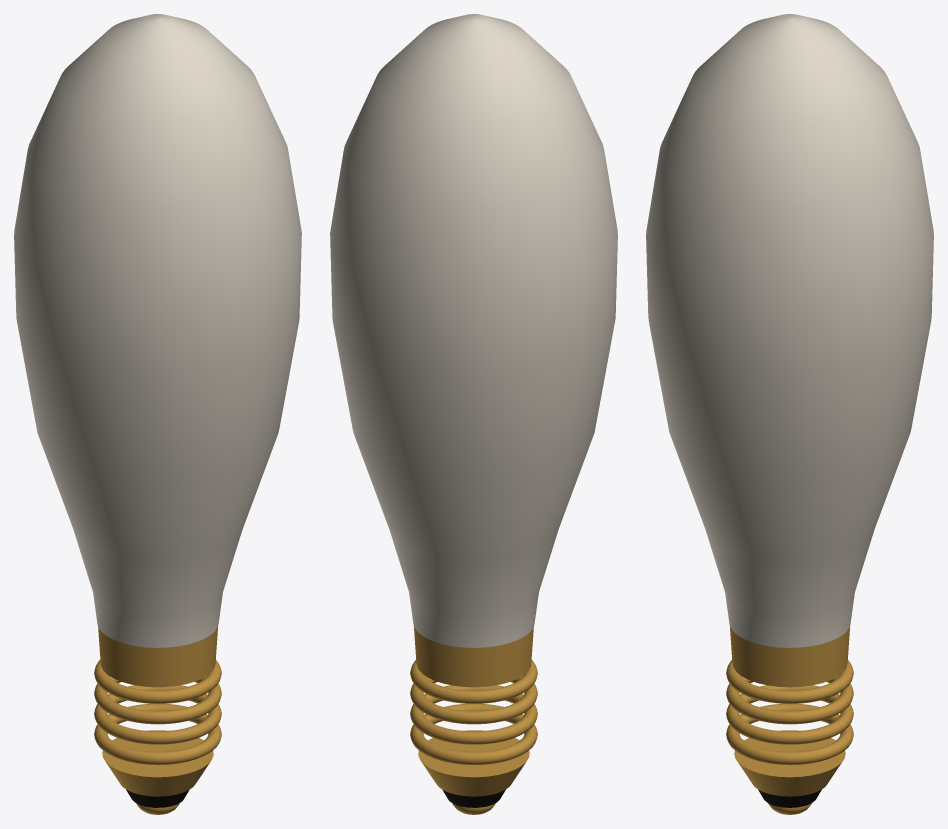
File: deco-edison-histoire.glb
The picture shows the model from 3 angles, left to right: view 1: azimuth 30°, elevation 25°; view 2: azimuth 150°, elevation 25°; view 3: azimuth 270°, elevation 25°; orthographic projection.
Parts seen in each view (by area): view 1: verre, deco-edison-histoire; view 2: verre, deco-edison-histoire; view 3: verre, deco-edison-histoire.
Part boxes in pixels (<box>): verre: <box>14,14,301,647</box>; deco-edison-histoire: <box>94,626,221,814</box>; verre: <box>330,14,617,647</box>; deco-edison-histoire: <box>410,626,537,814</box>; verre: <box>646,14,933,647</box>; deco-edison-histoire: <box>726,627,853,814</box>.
Size of the model in its own units: 0.064 by 0.1945 by 0.064.
